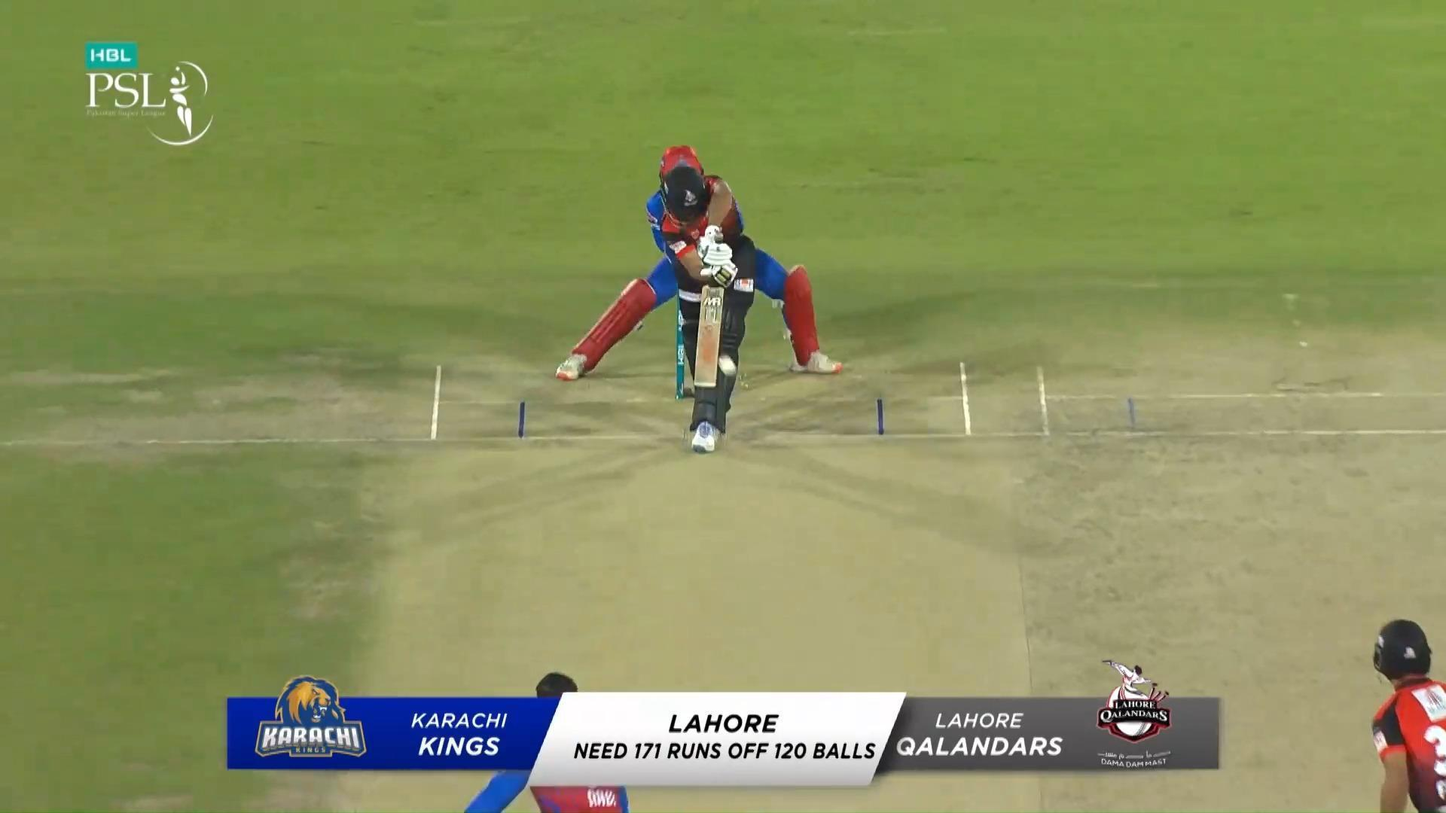BM 1: (660, 164, 757, 455)
BO: (464, 673, 632, 813)
